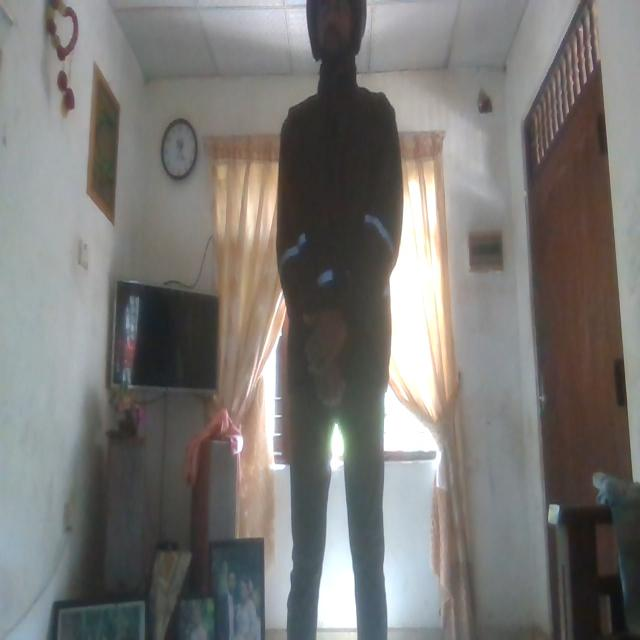Helmet_Wearer: (304, 0, 372, 75)
Jacket_Wearer: (275, 85, 407, 407)
Person: (273, 0, 403, 640)
